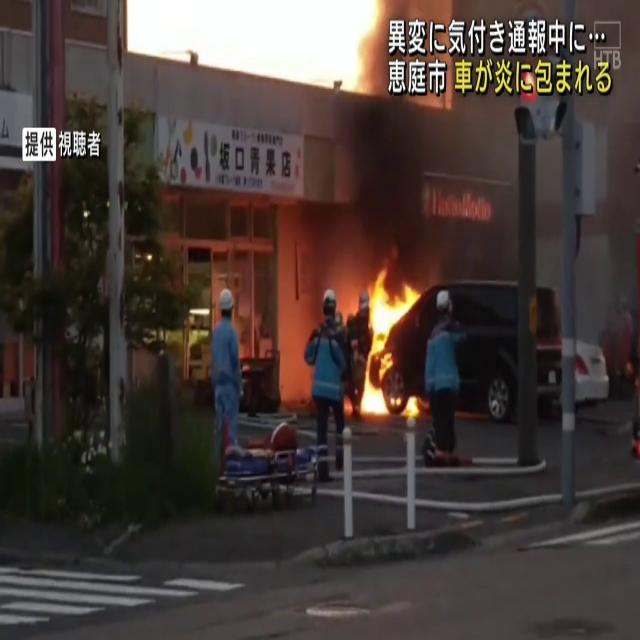Fire: (353, 262, 425, 420)
Smoke: (314, 1, 503, 270), (580, 2, 640, 334)
